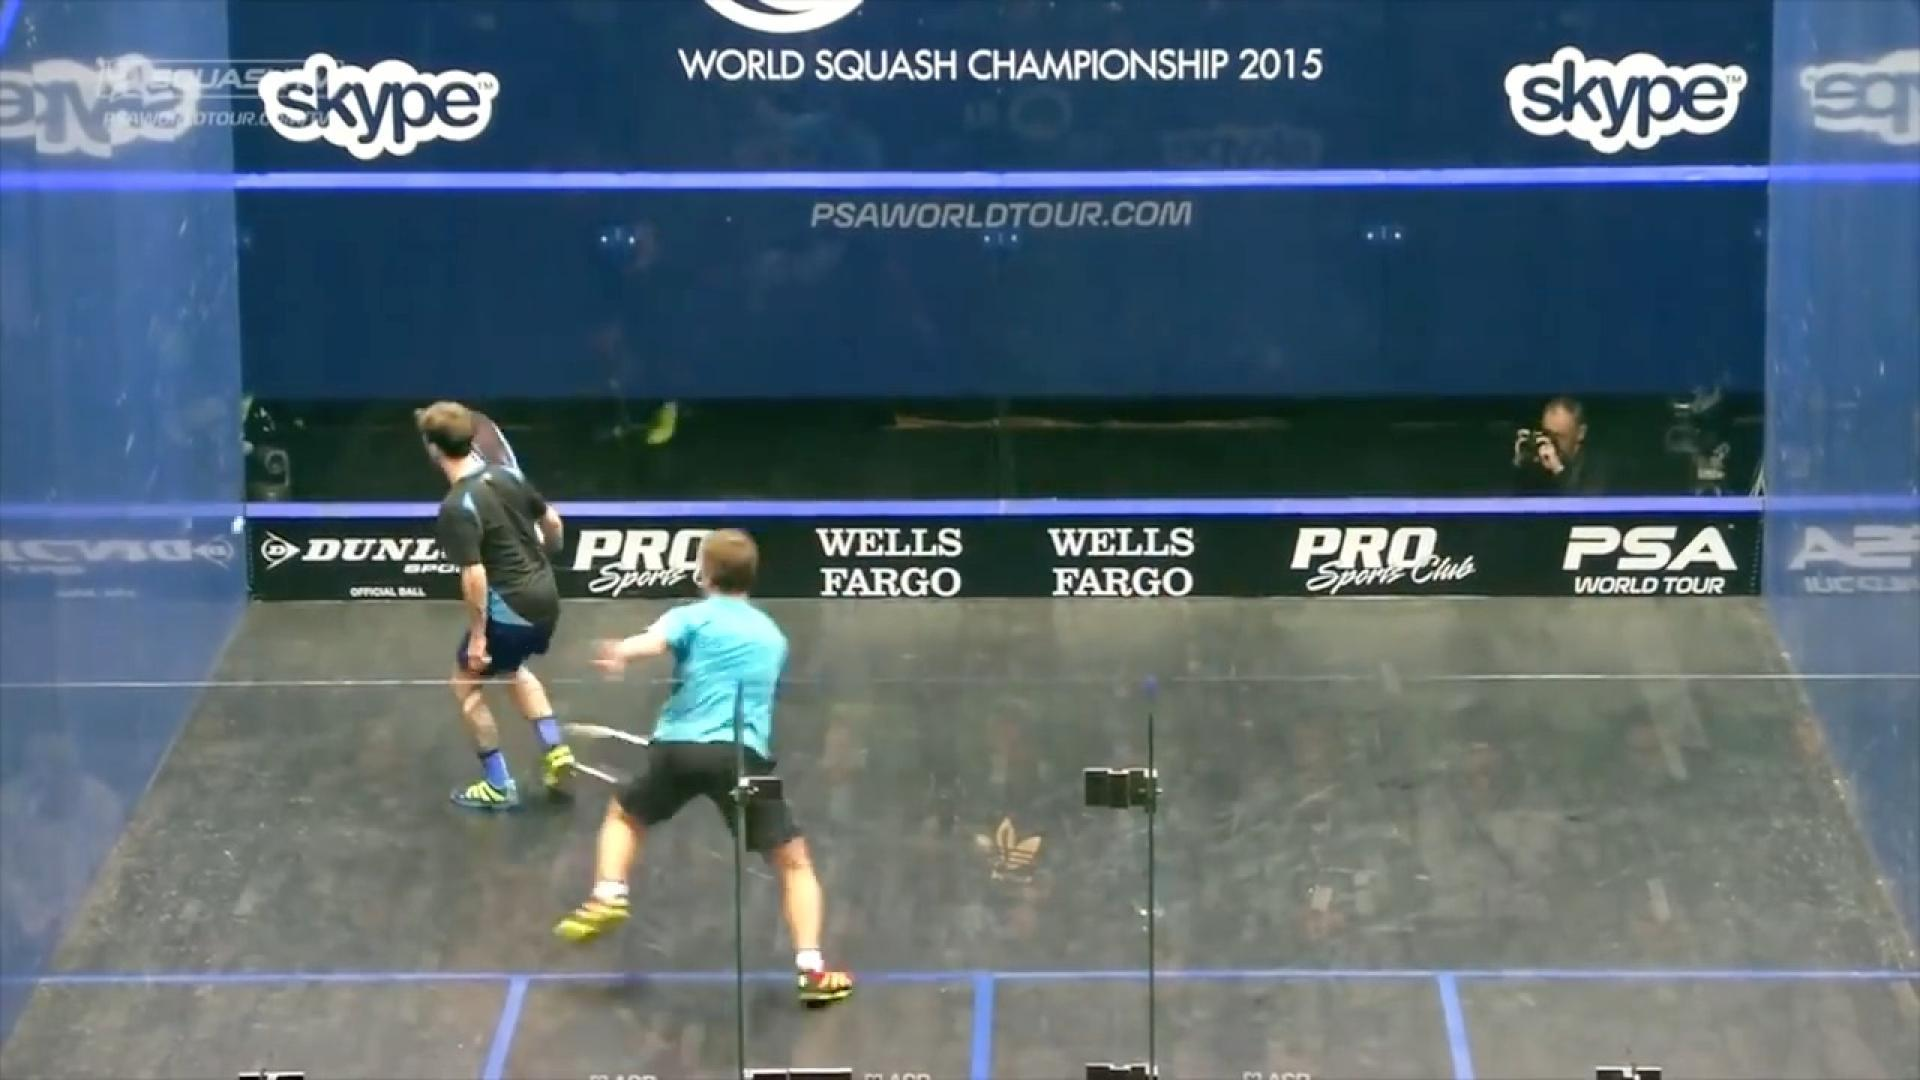Squash-Ball: (215, 502, 265, 550)
